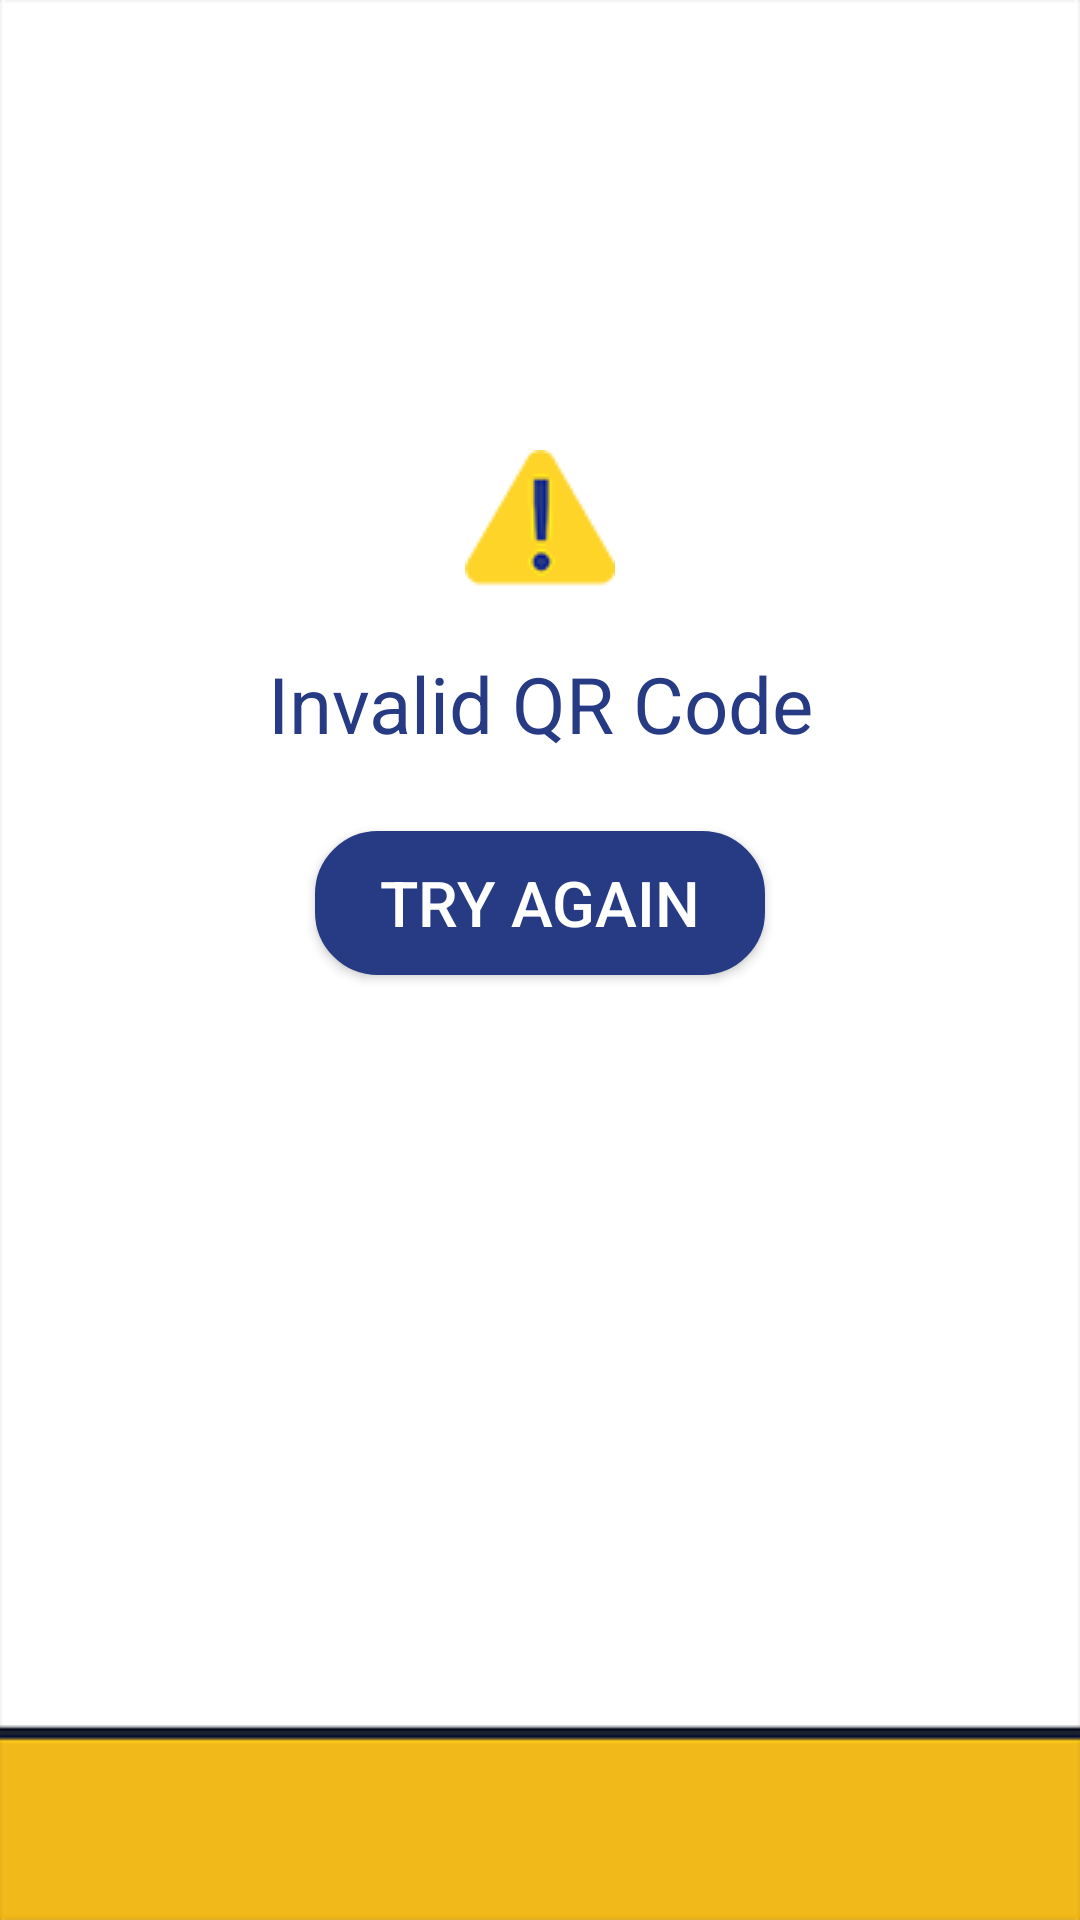

Where to tap for icons on this 1080×1920 app screen, as point (x, y):
error: point (540, 518)
